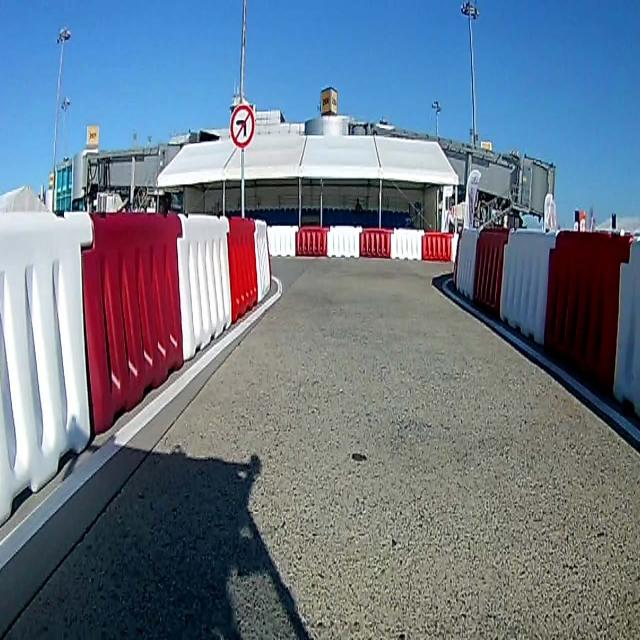soladonulmez: (230, 103, 253, 147)
